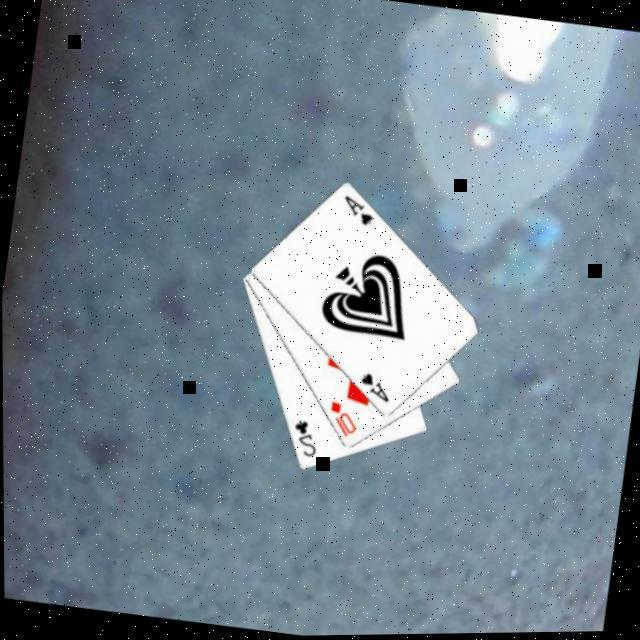10D: (321, 400, 360, 444)
2C: (285, 418, 320, 463)
AS: (335, 194, 377, 233), (353, 372, 393, 409)
